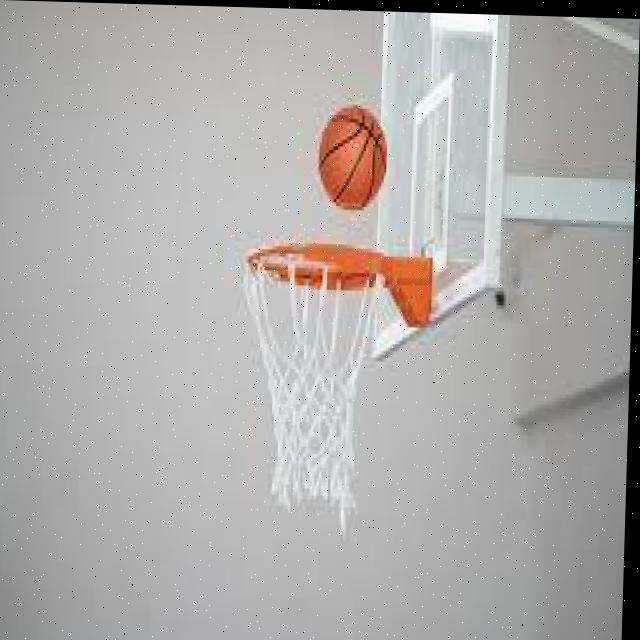basketball: (317, 104, 388, 211)
hoop: (233, 238, 391, 536)
